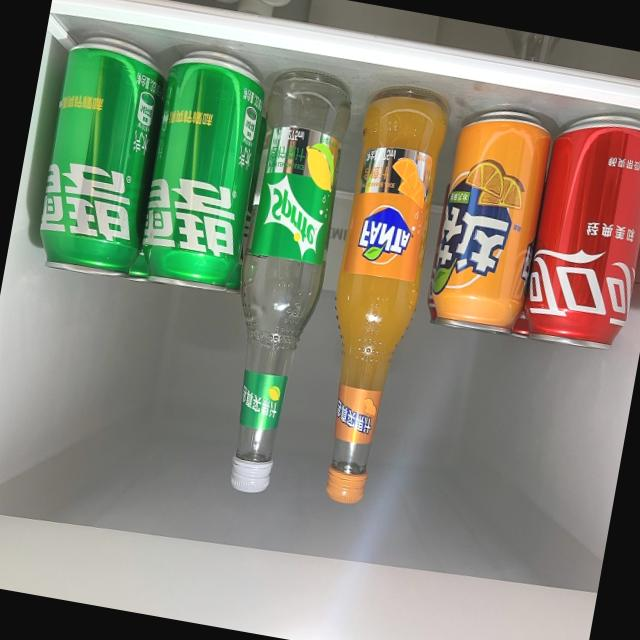bottle: (202, 63, 358, 499), (304, 78, 456, 510), (492, 26, 565, 66), (234, 0, 275, 19), (247, 0, 294, 10), (197, 0, 244, 7)
can: (26, 26, 170, 284), (130, 42, 274, 300), (420, 96, 559, 345), (519, 103, 640, 358)
